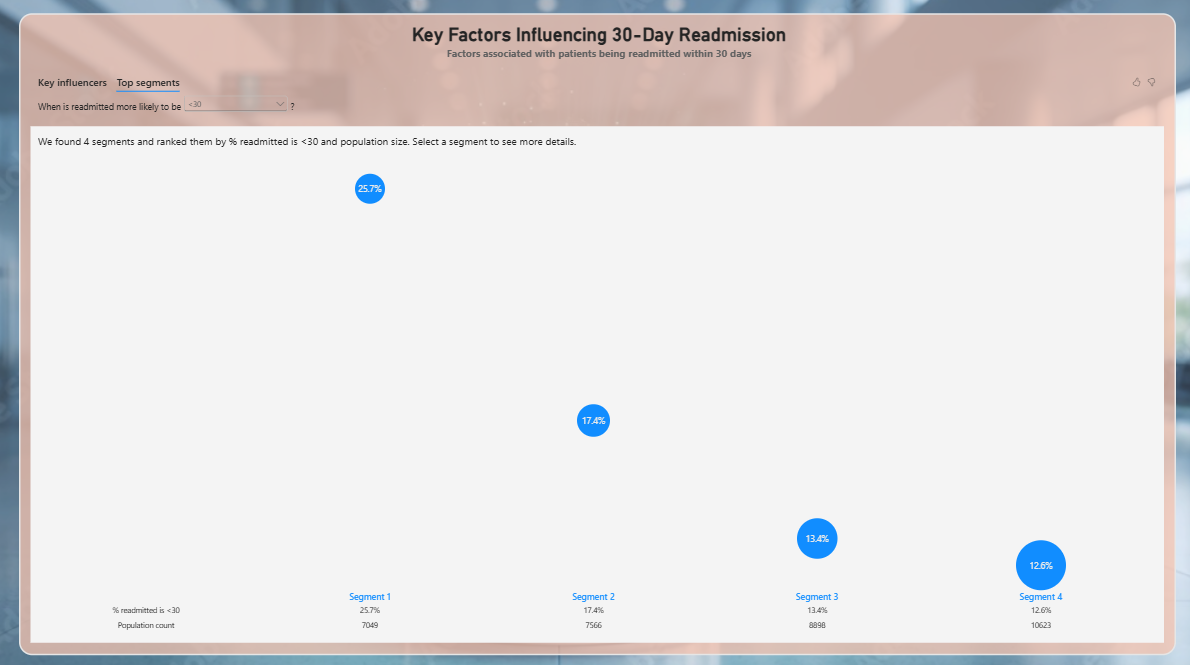

The page's visual inventory and layout, read from the dashboard file:
{"tool":"powerbi","page":{"name":"Readmission Drivers","canvas":[1920,1080],"ordinal":5},"visuals":[{"type":"keyDriversVisual","title":"Key Factors Influencing 30-Day Readmission","fields":{"ExplainBy":["diabetic_data.age","diabetic_data.gender","diabetic_data.race","Sum(diabetic_data.time_in_hospital)","Sum(diabetic_data.num_medications)","Sum(diabetic_data.num_lab_procedures)","Sum(diabetic_data.number_diagnoses)","Sum(diabetic_data.num_procedures)","Sum(diabetic_data.number_emergency)","Sum(diabetic_data.number_inpatient)","Sum(diabetic_data.number_outpatient)","diabetic_data.A1Cresult"],"Target":["diabetic_data.readmitted"]},"box":[31.3,25.8,1851.5,1027],"z":0}]}

Visuals, with their boxes on the page's 1920x1080 design canvas (x1, y1, x2, y2). These are canvas units, not pixel positions in the 1190x665 screenshot, which may show the page scaled, cropped or inside an application window:
"Key Factors Influencing 30-Day Readmission" keyDriversVisual: {"left": 31, "top": 26, "right": 1883, "bottom": 1053}
